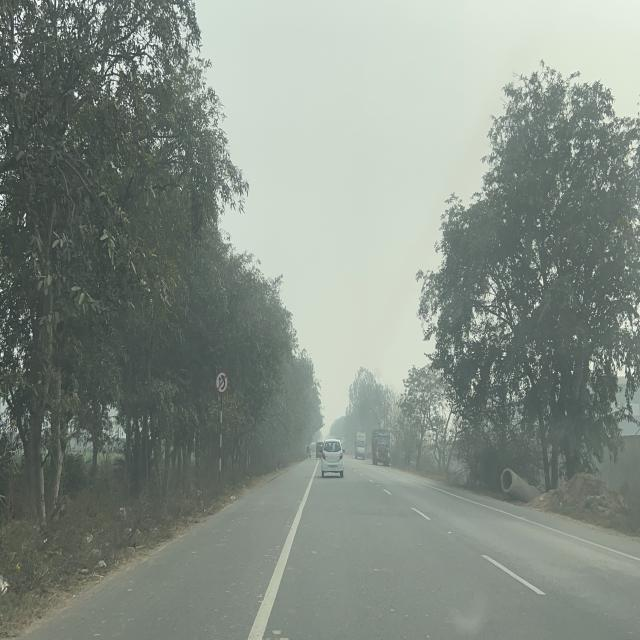OVERTAKING_PROHIBITED: (215, 370, 229, 395)
